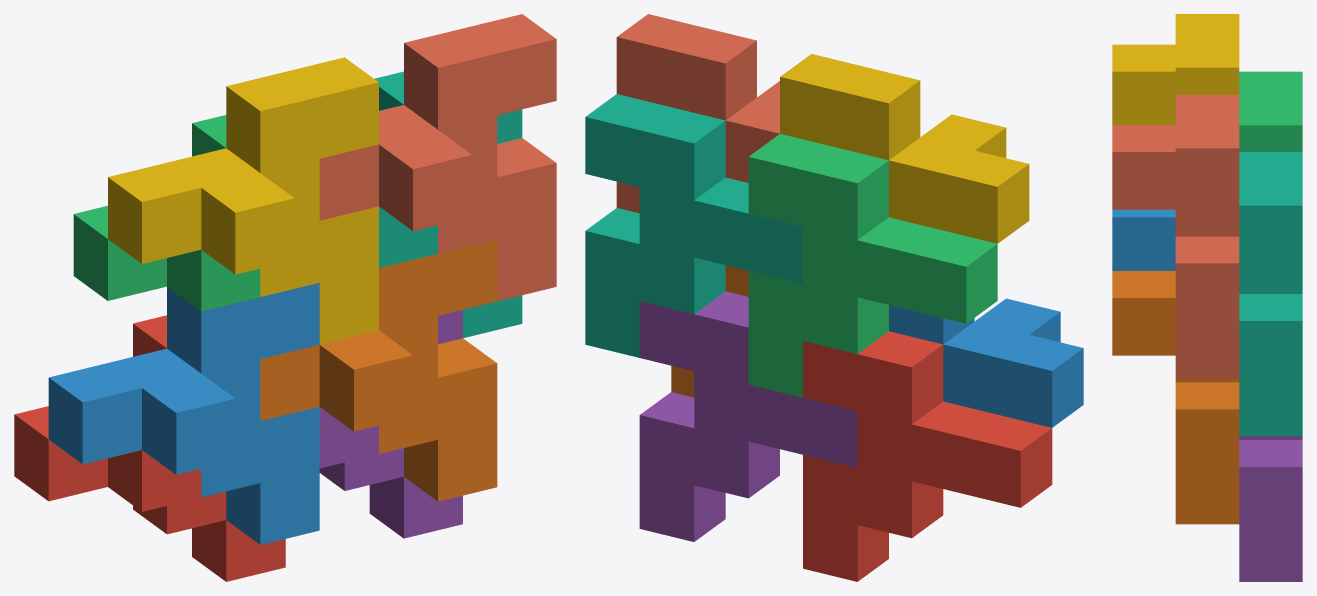
File: tiling.obj
3 views of the same model, side by side, from view 1: azimuth 30°, elevation 25°; view 2: azimuth 150°, elevation 25°; view 3: azimuth 270°, elevation 25° (orthographic). The views are drawn at different scales.
Parts seen in each view (by area): view 1: copy_1_domain_4, copy_1_domain_2, copy_1_domain_8, copy_1_domain_6, copy_1_domain_1, copy_1_domain_3, copy_1_domain_5, copy_1_domain_7; view 2: copy_1_domain_3, copy_1_domain_1, copy_1_domain_7, copy_1_domain_5, copy_1_domain_4, copy_1_domain_2, copy_1_domain_8, copy_1_domain_6; view 3: copy_1_domain_8, copy_1_domain_7, copy_1_domain_6, copy_1_domain_4, copy_1_domain_5, copy_1_domain_3, copy_1_domain_2.
Boxes of the visible parts, x1,y1,x2,y2 form: copy_1_domain_4: (108,57,378,344); copy_1_domain_2: (48,283,319,544); copy_1_domain_8: (319,14,556,301); copy_1_domain_6: (260,239,497,501); copy_1_domain_1: (14,315,285,581); copy_1_domain_3: (73,115,260,311); copy_1_domain_5: (319,310,462,538); copy_1_domain_7: (374,71,522,338); copy_1_domain_3: (748,134,997,397); copy_1_domain_1: (803,331,1052,581); copy_1_domain_7: (585,94,802,357); copy_1_domain_5: (639,291,857,541); copy_1_domain_4: (780,54,1029,243); copy_1_domain_2: (889,298,1083,427); copy_1_domain_8: (616,14,779,213); copy_1_domain_6: (671,265,748,397); copy_1_domain_8: (1112,94,1239,378); copy_1_domain_7: (1239,152,1302,435); copy_1_domain_6: (1112,271,1239,524); copy_1_domain_4: (1112,14,1239,125); copy_1_domain_5: (1239,436,1302,581); copy_1_domain_3: (1239,71,1302,151); copy_1_domain_2: (1112,209,1175,270).
Bounding box in the file's own units: 8 × 8 × 3.
